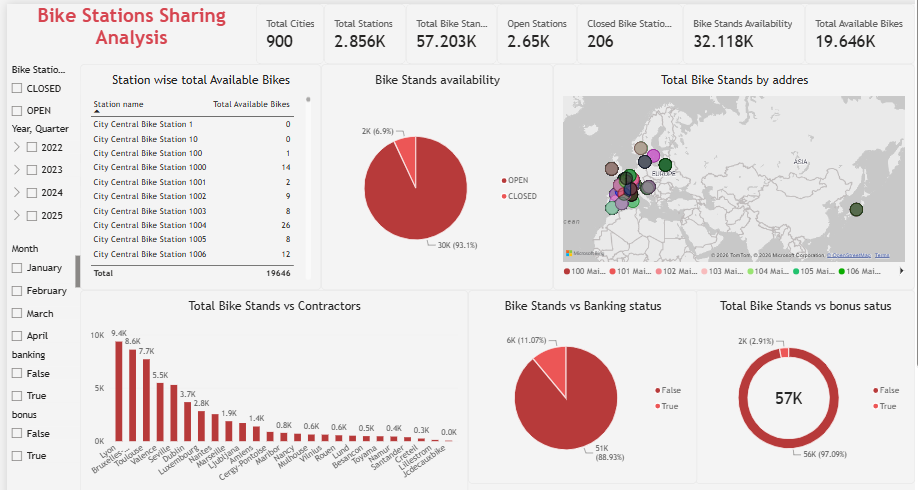

The dashboard page shown, as its layout file describes it:
{"tool":"powerbi","page":{"name":"Page 1","canvas":[1920,1080],"ordinal":0},"visuals":[{"type":"cardVisual","fields":{"Data":["Measure.Total Stations"]},"box":[528.3,0,136.7,100],"z":0},{"type":"cardVisual","fields":{"Data":["Measure.Total Cities"]},"box":[415,0,113.3,100],"z":1},{"type":"cardVisual","fields":{"Data":["Measure.Totl Bike Stands"]},"box":[665,0,151.7,100],"z":2},{"type":"cardVisual","fields":{"Data":["Measure.Bike Stands Availability"]},"box":[1126.7,0,203.3,100],"z":3},{"type":"cardVisual","fields":{"Data":["Measure.Total Available Bikes"]},"box":[1330,0,183.3,100],"z":4},{"type":"cardVisual","fields":{"Data":["Measure.Opened Stations"]},"box":[816.7,0,133.3,100],"z":5},{"type":"cardVisual","fields":{"Data":["Measure.Closed Bike Stations"]},"box":[950,0,176.7,100],"z":6},{"type":"textbox","box":[0,0,415,100],"z":7},{"type":"pieChart","title":"Bike Stands availability","fields":{"Category":["Fact Table.status"],"Y":["Sum(Fact Table.Available Bike Stands)"]},"box":[523.3,100,386.7,376.7],"z":8},{"type":"map","title":"Total Bike Stands by addres","fields":{"Series":["Fact Table.address"],"X":["Fact Table.position.2"],"Y":["Fact Table.position.1"]},"box":[910,100,603.3,376.7],"z":9},{"type":"donutChart","title":"Total Bike Stands vs bonus satus","fields":{"Category":["Fact Table.bonus"],"Y":["Sum(Fact Table.Bike Stands)"]},"box":[1146.7,476.7,367,323],"z":10},{"type":"tableEx","title":"Station wise total Available Bikes","fields":{"Values":["Fact Table.name","Sum(Fact Table.Available Bikes)"]},"box":[121.7,100,401.7,376.7],"z":11},{"type":"pieChart","title":"Bike Stands vs Banking status","fields":{"Category":["Fact Table.banking"],"Y":["Sum(Fact Table.Bike Stands)"]},"box":[768.3,476.7,381.7,323.3],"z":12},{"type":"slicer","fields":{"Values":["Fact Table.status"]},"box":[0,100,121.7,98.3],"z":13},{"type":"slicer","fields":{"Values":["Fact Table.Last Update Date.Variation.Date Hierarchy.Year","Fact Table.Last Update Date.Variation.Date Hierarchy.Quarter"]},"box":[0,198.3,121.7,200],"z":14},{"type":"slicer","fields":{"Values":["Fact Table.Last Update Date.Variation.Date Hierarchy.Month"]},"box":[0,398.3,121.7,176.7],"z":15},{"type":"slicer","fields":{"Values":["Fact Table.bonus"]},"box":[0,675,121.7,125],"z":16},{"type":"slicer","fields":{"Values":["Fact Table.banking"]},"box":[0,575,121.7,100],"z":17},{"type":"clusteredColumnChart","title":"Total Bike Stands vs Contractors","fields":{"Category":["Fact Table.Contract Name"],"Y":["Sum(Fact Table.Bike Stands)"]},"box":[121.7,476.7,646.7,365],"z":18}]}

Visuals, with their boxes on the page's 1920x1080 design canvas (x1, y1, x2, y2). These are canvas units, not pixel positions in the 918x490 screenshot, which may show the page scaled, cropped or inside an application window:
cardVisual - Measure.Total Stations: [left=528, top=0, right=665, bottom=100]
cardVisual - Measure.Total Cities: [left=415, top=0, right=528, bottom=100]
cardVisual - Measure.Totl Bike Stands: [left=665, top=0, right=817, bottom=100]
cardVisual - Measure.Bike Stands Availability: [left=1127, top=0, right=1330, bottom=100]
cardVisual - Measure.Total Available Bikes: [left=1330, top=0, right=1513, bottom=100]
cardVisual - Measure.Opened Stations: [left=817, top=0, right=950, bottom=100]
cardVisual - Measure.Closed Bike Stations: [left=950, top=0, right=1127, bottom=100]
textbox: [left=0, top=0, right=415, bottom=100]
"Bike Stands availability" pieChart: [left=523, top=100, right=910, bottom=477]
"Total Bike Stands by addres" map: [left=910, top=100, right=1513, bottom=477]
"Total Bike Stands vs bonus satus" donutChart: [left=1147, top=477, right=1514, bottom=800]
"Station wise total Available Bikes" tableEx: [left=122, top=100, right=523, bottom=477]
"Bike Stands vs Banking status" pieChart: [left=768, top=477, right=1150, bottom=800]
slicer - Fact Table.status: [left=0, top=100, right=122, bottom=198]
slicer - Fact Table.Last Update Date.Variation.Date Hierarchy.Year x Fact Table.Last Update Date.Variation.Date Hierarchy.Quarter: [left=0, top=198, right=122, bottom=398]
slicer - Fact Table.Last Update Date.Variation.Date Hierarchy.Month: [left=0, top=398, right=122, bottom=575]
slicer - Fact Table.bonus: [left=0, top=675, right=122, bottom=800]
slicer - Fact Table.banking: [left=0, top=575, right=122, bottom=675]
"Total Bike Stands vs Contractors" clusteredColumnChart: [left=122, top=477, right=768, bottom=842]
